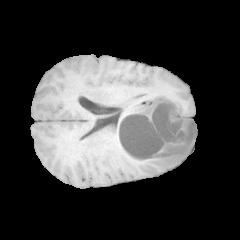glioma: (113, 96, 197, 167)
